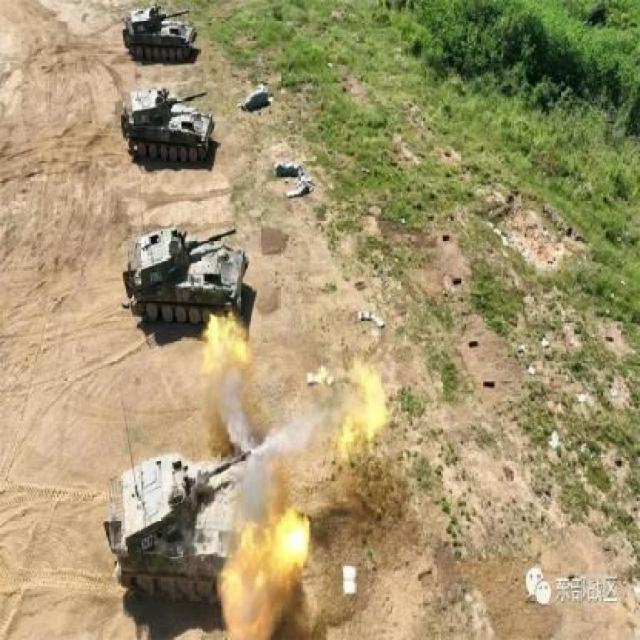MIL_MBT: (103, 452, 249, 606), (124, 222, 250, 333), (120, 88, 215, 168), (122, 4, 197, 64)
